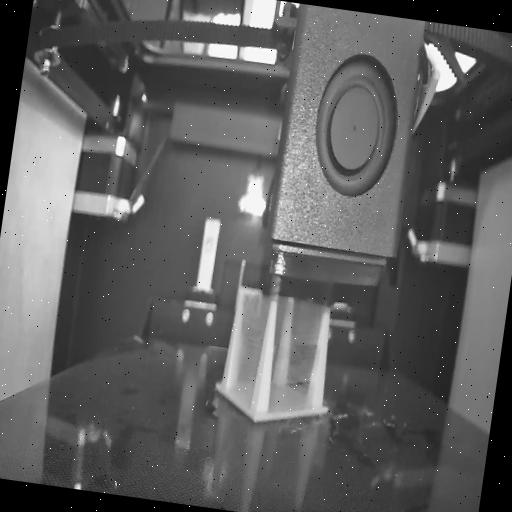stringing: (264, 297, 328, 422), (226, 286, 270, 406)
